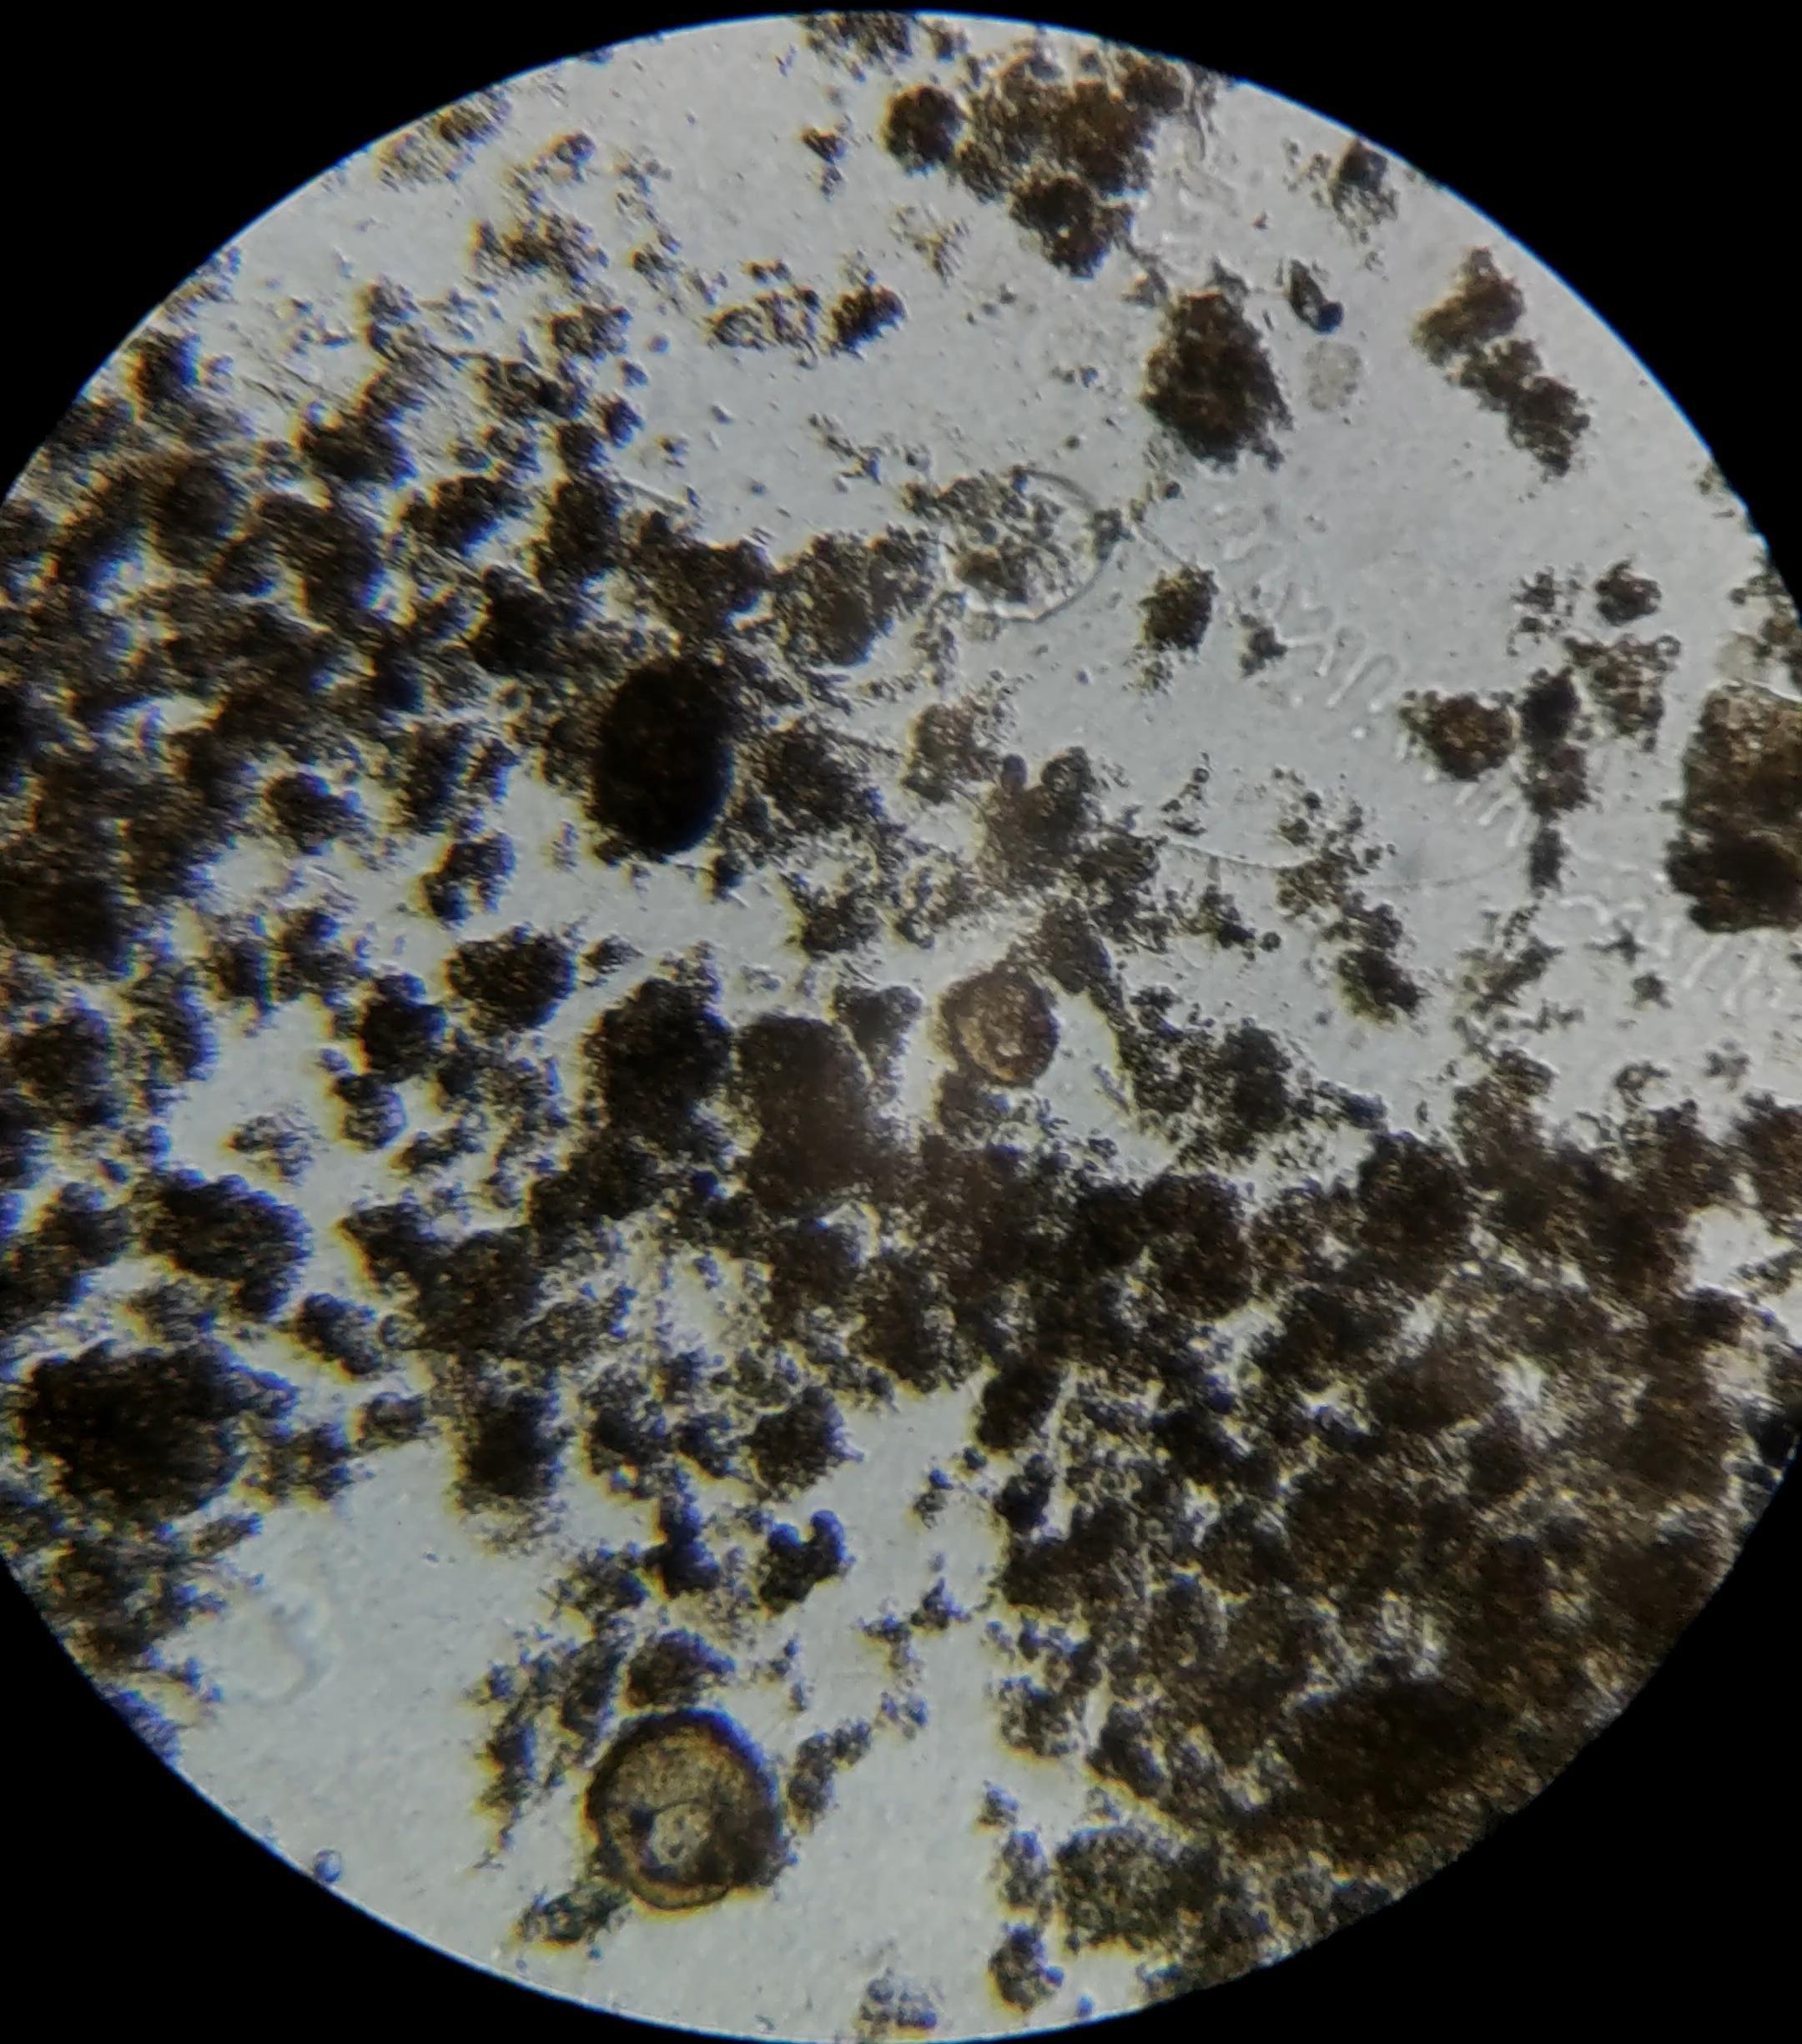Arcella: (595, 1719, 769, 1910), (953, 974, 1054, 1087)
